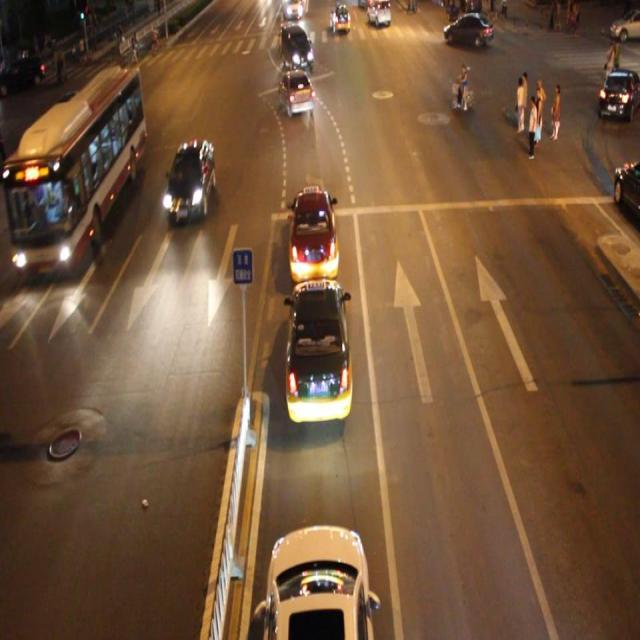car: (263, 519, 374, 640), (285, 276, 352, 420), (287, 188, 339, 284), (163, 138, 216, 223), (279, 70, 314, 117), (280, 28, 314, 75)
van: (9, 65, 146, 276)
